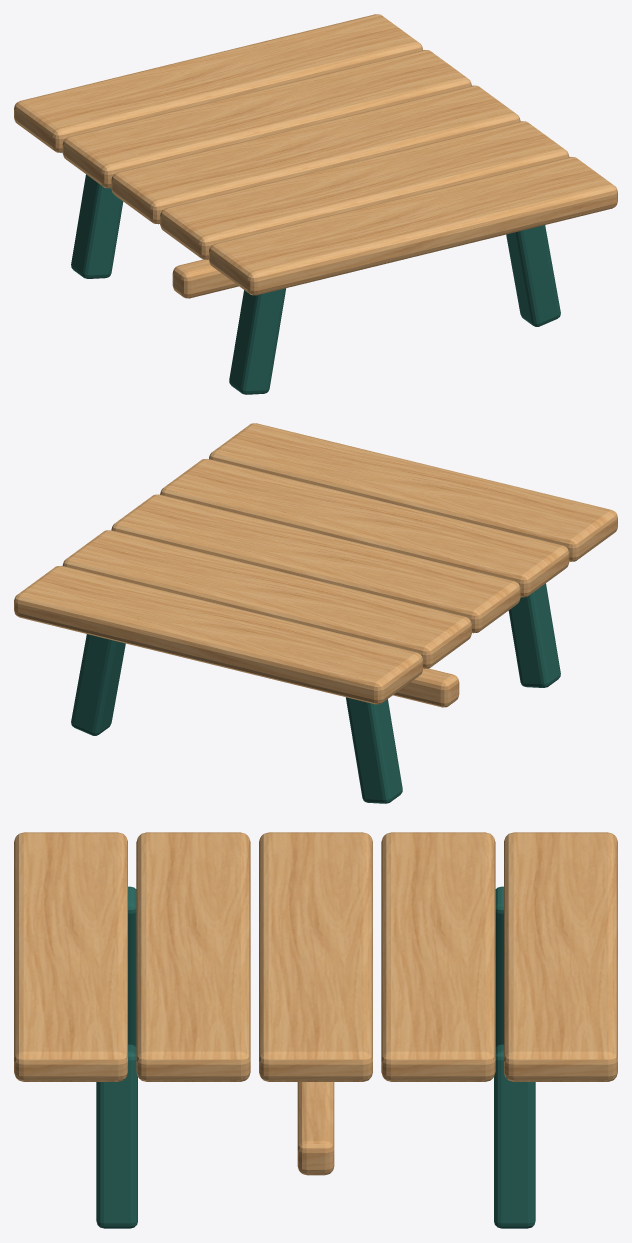
The model's file is low_picnic_table.glb.
3 renders of one model, top to bottom at view 1: azimuth 30°, elevation 25°; view 2: azimuth 150°, elevation 25°; view 3: azimuth 270°, elevation 25°, orthographic. The views are drawn at different scales.
Parts seen in each view (by area): view 1: low_picnic_table; view 2: low_picnic_table; view 3: low_picnic_table.
Boxes of the visible parts, x1=… form: low_picnic_table: x1=14, y1=14, x2=617, y2=394; low_picnic_table: x1=14, y1=423, x2=617, y2=803; low_picnic_table: x1=14, y1=832, x2=617, y2=1228.
Size of the model in its own units: 1.16 by 0.4651 by 1.31.
2 materials, 1 textured.
